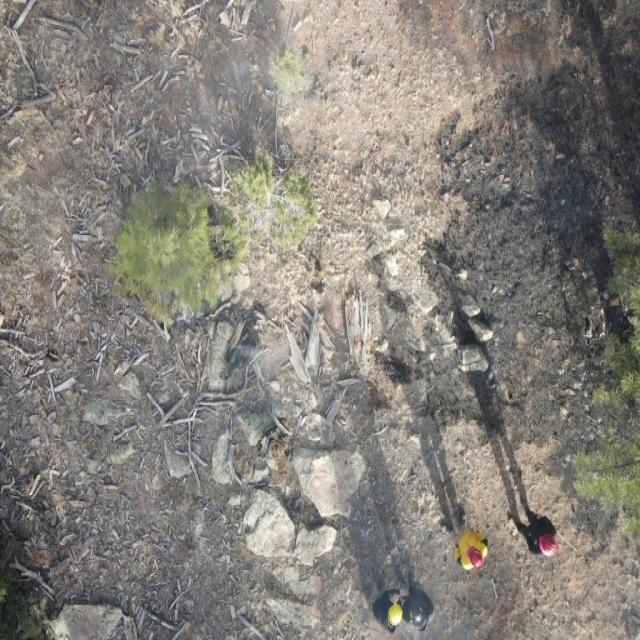fire: (372, 344, 413, 374), (363, 378, 392, 406)
smoke: (18, 0, 285, 215)
